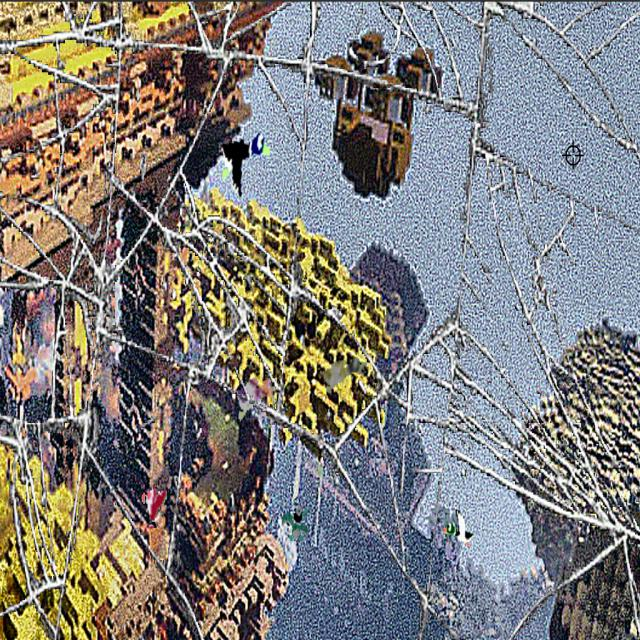duck: (212, 132, 280, 206), (438, 501, 481, 548)
falling_duck: (283, 494, 315, 555), (140, 481, 168, 538)
